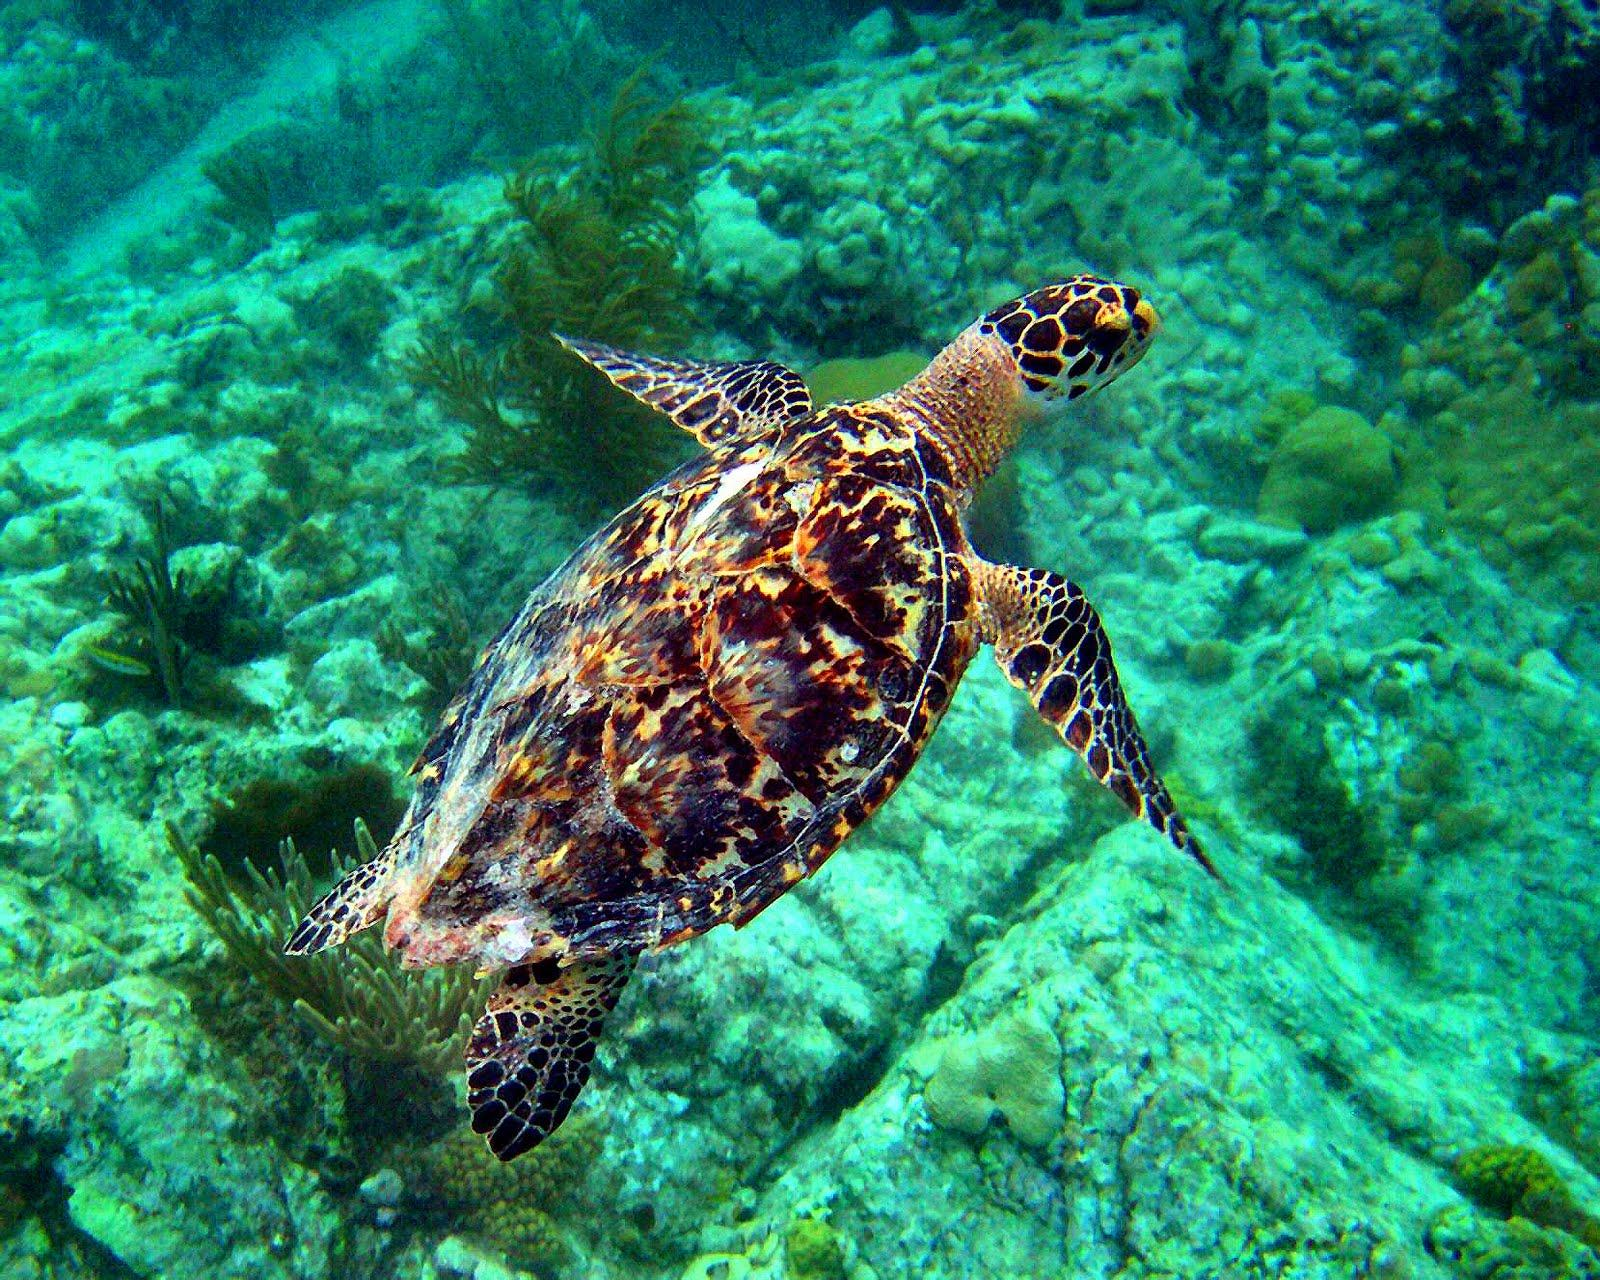turtle: (948, 253, 1172, 427)
